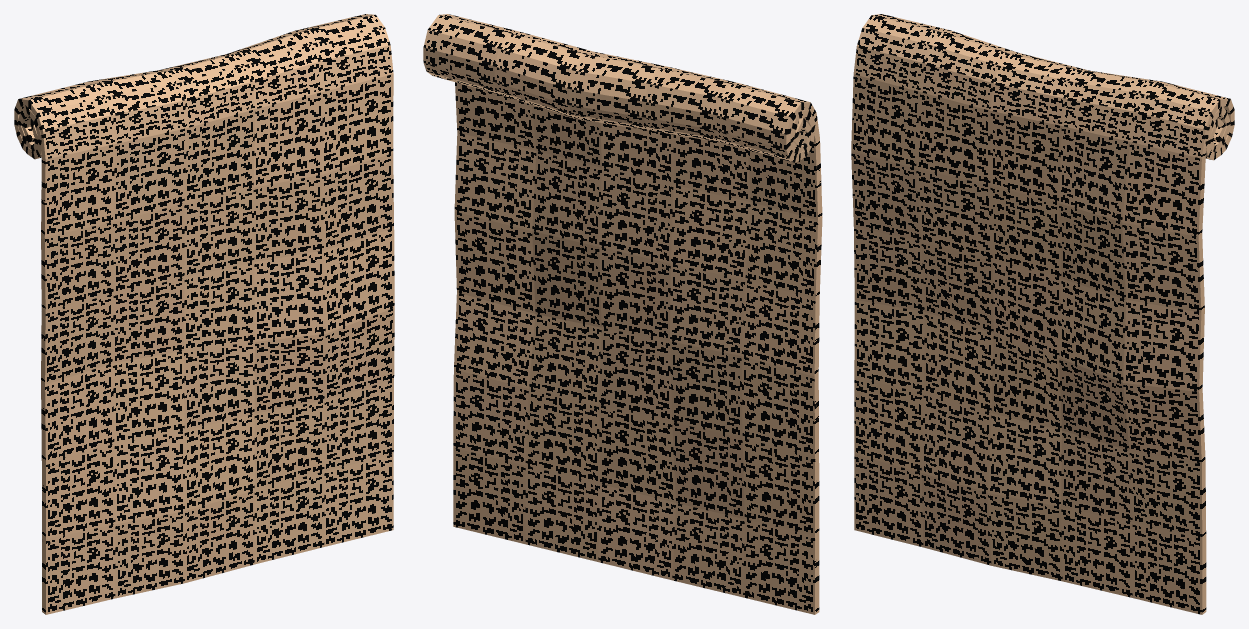
File: Scroll.glb
The picture shows the model from 3 angles, left to right: view 1: azimuth 30°, elevation 25°; view 2: azimuth 150°, elevation 25°; view 3: azimuth 330°, elevation 25°; orthographic projection. The views are drawn at different scales.
Parts seen in each view (by area): view 1: Scroll; view 2: Scroll; view 3: Scroll.
Part boxes in pixels (box(x1,y1,x2,y2)): Scroll: box(14, 14, 394, 614); Scroll: box(423, 14, 822, 614); Scroll: box(851, 14, 1234, 614).
Size of the model in its own units: 0.5036 by 0.6928 by 0.0965.
1 material, 1 textured.
